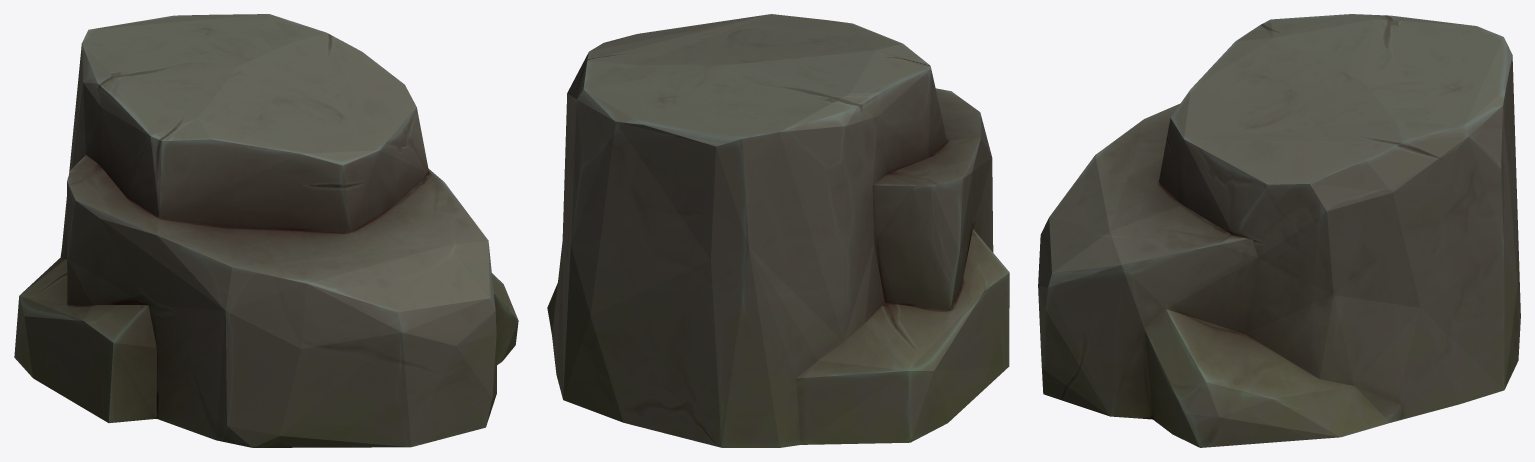
Rendered from ROK0110024.fbx.
3 renders of one model, left to right at view 1: azimuth 30°, elevation 25°; view 2: azimuth 150°, elevation 25°; view 3: azimuth 270°, elevation 25°, orthographic. The views are drawn at different scales.
Visible parts, largest first — view 1: smROK0110024; view 2: smROK0110024; view 3: smROK0110024.
Part boxes in pixels (bbox=[...]): smROK0110024: bbox=[14, 14, 518, 447]; smROK0110024: bbox=[547, 14, 1009, 447]; smROK0110024: bbox=[1038, 14, 1520, 447].
Size of the model in its own units: 240 by 159 by 251.
1 material, 1 textured.
